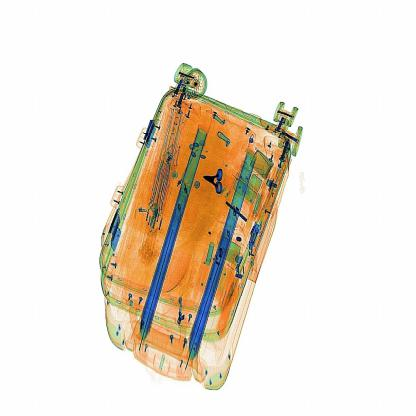gun: (195, 155, 232, 195)
